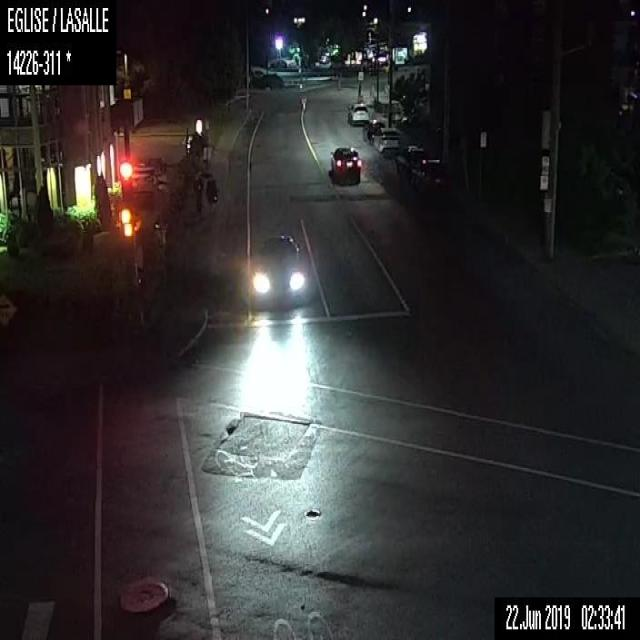pedestrian: (203, 170, 218, 213), (192, 172, 202, 212)
vehicle: (252, 232, 304, 301), (410, 158, 447, 200), (328, 143, 362, 184), (371, 126, 406, 158), (394, 142, 424, 178), (365, 116, 390, 146), (268, 55, 298, 73), (346, 102, 370, 123)
